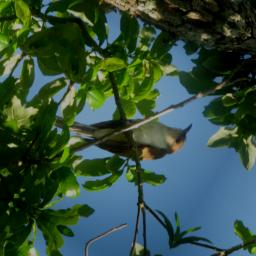Cuckoo: (45, 58, 199, 191)
